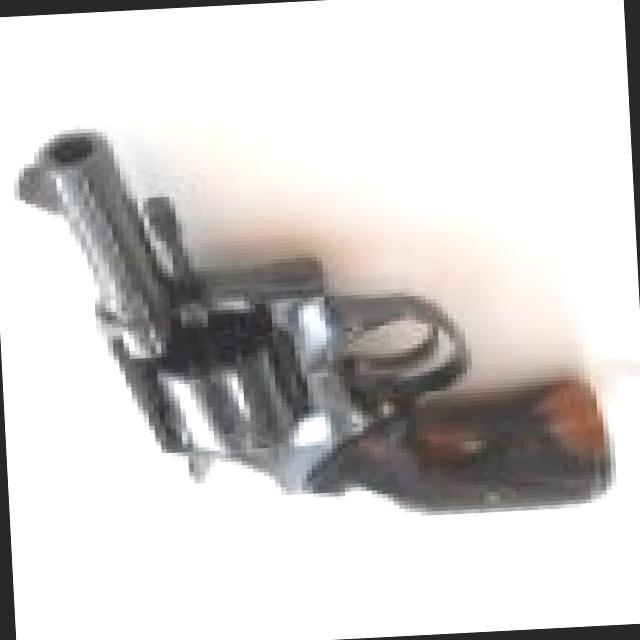handgun: (1, 110, 608, 556)
